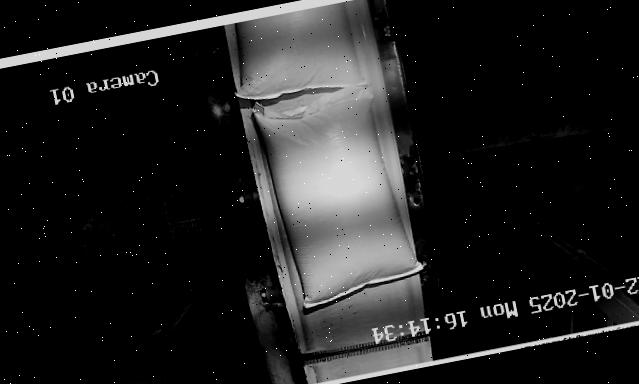bag: (247, 76, 428, 312), (220, 1, 367, 112)
